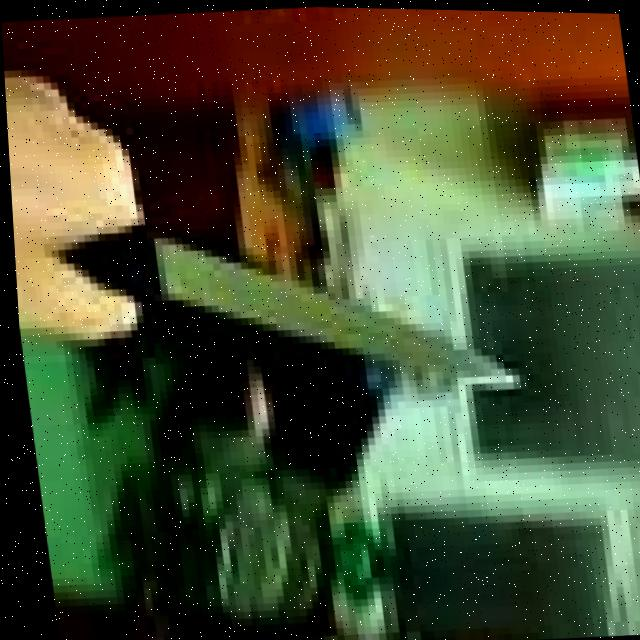knife: (52, 199, 522, 426)
